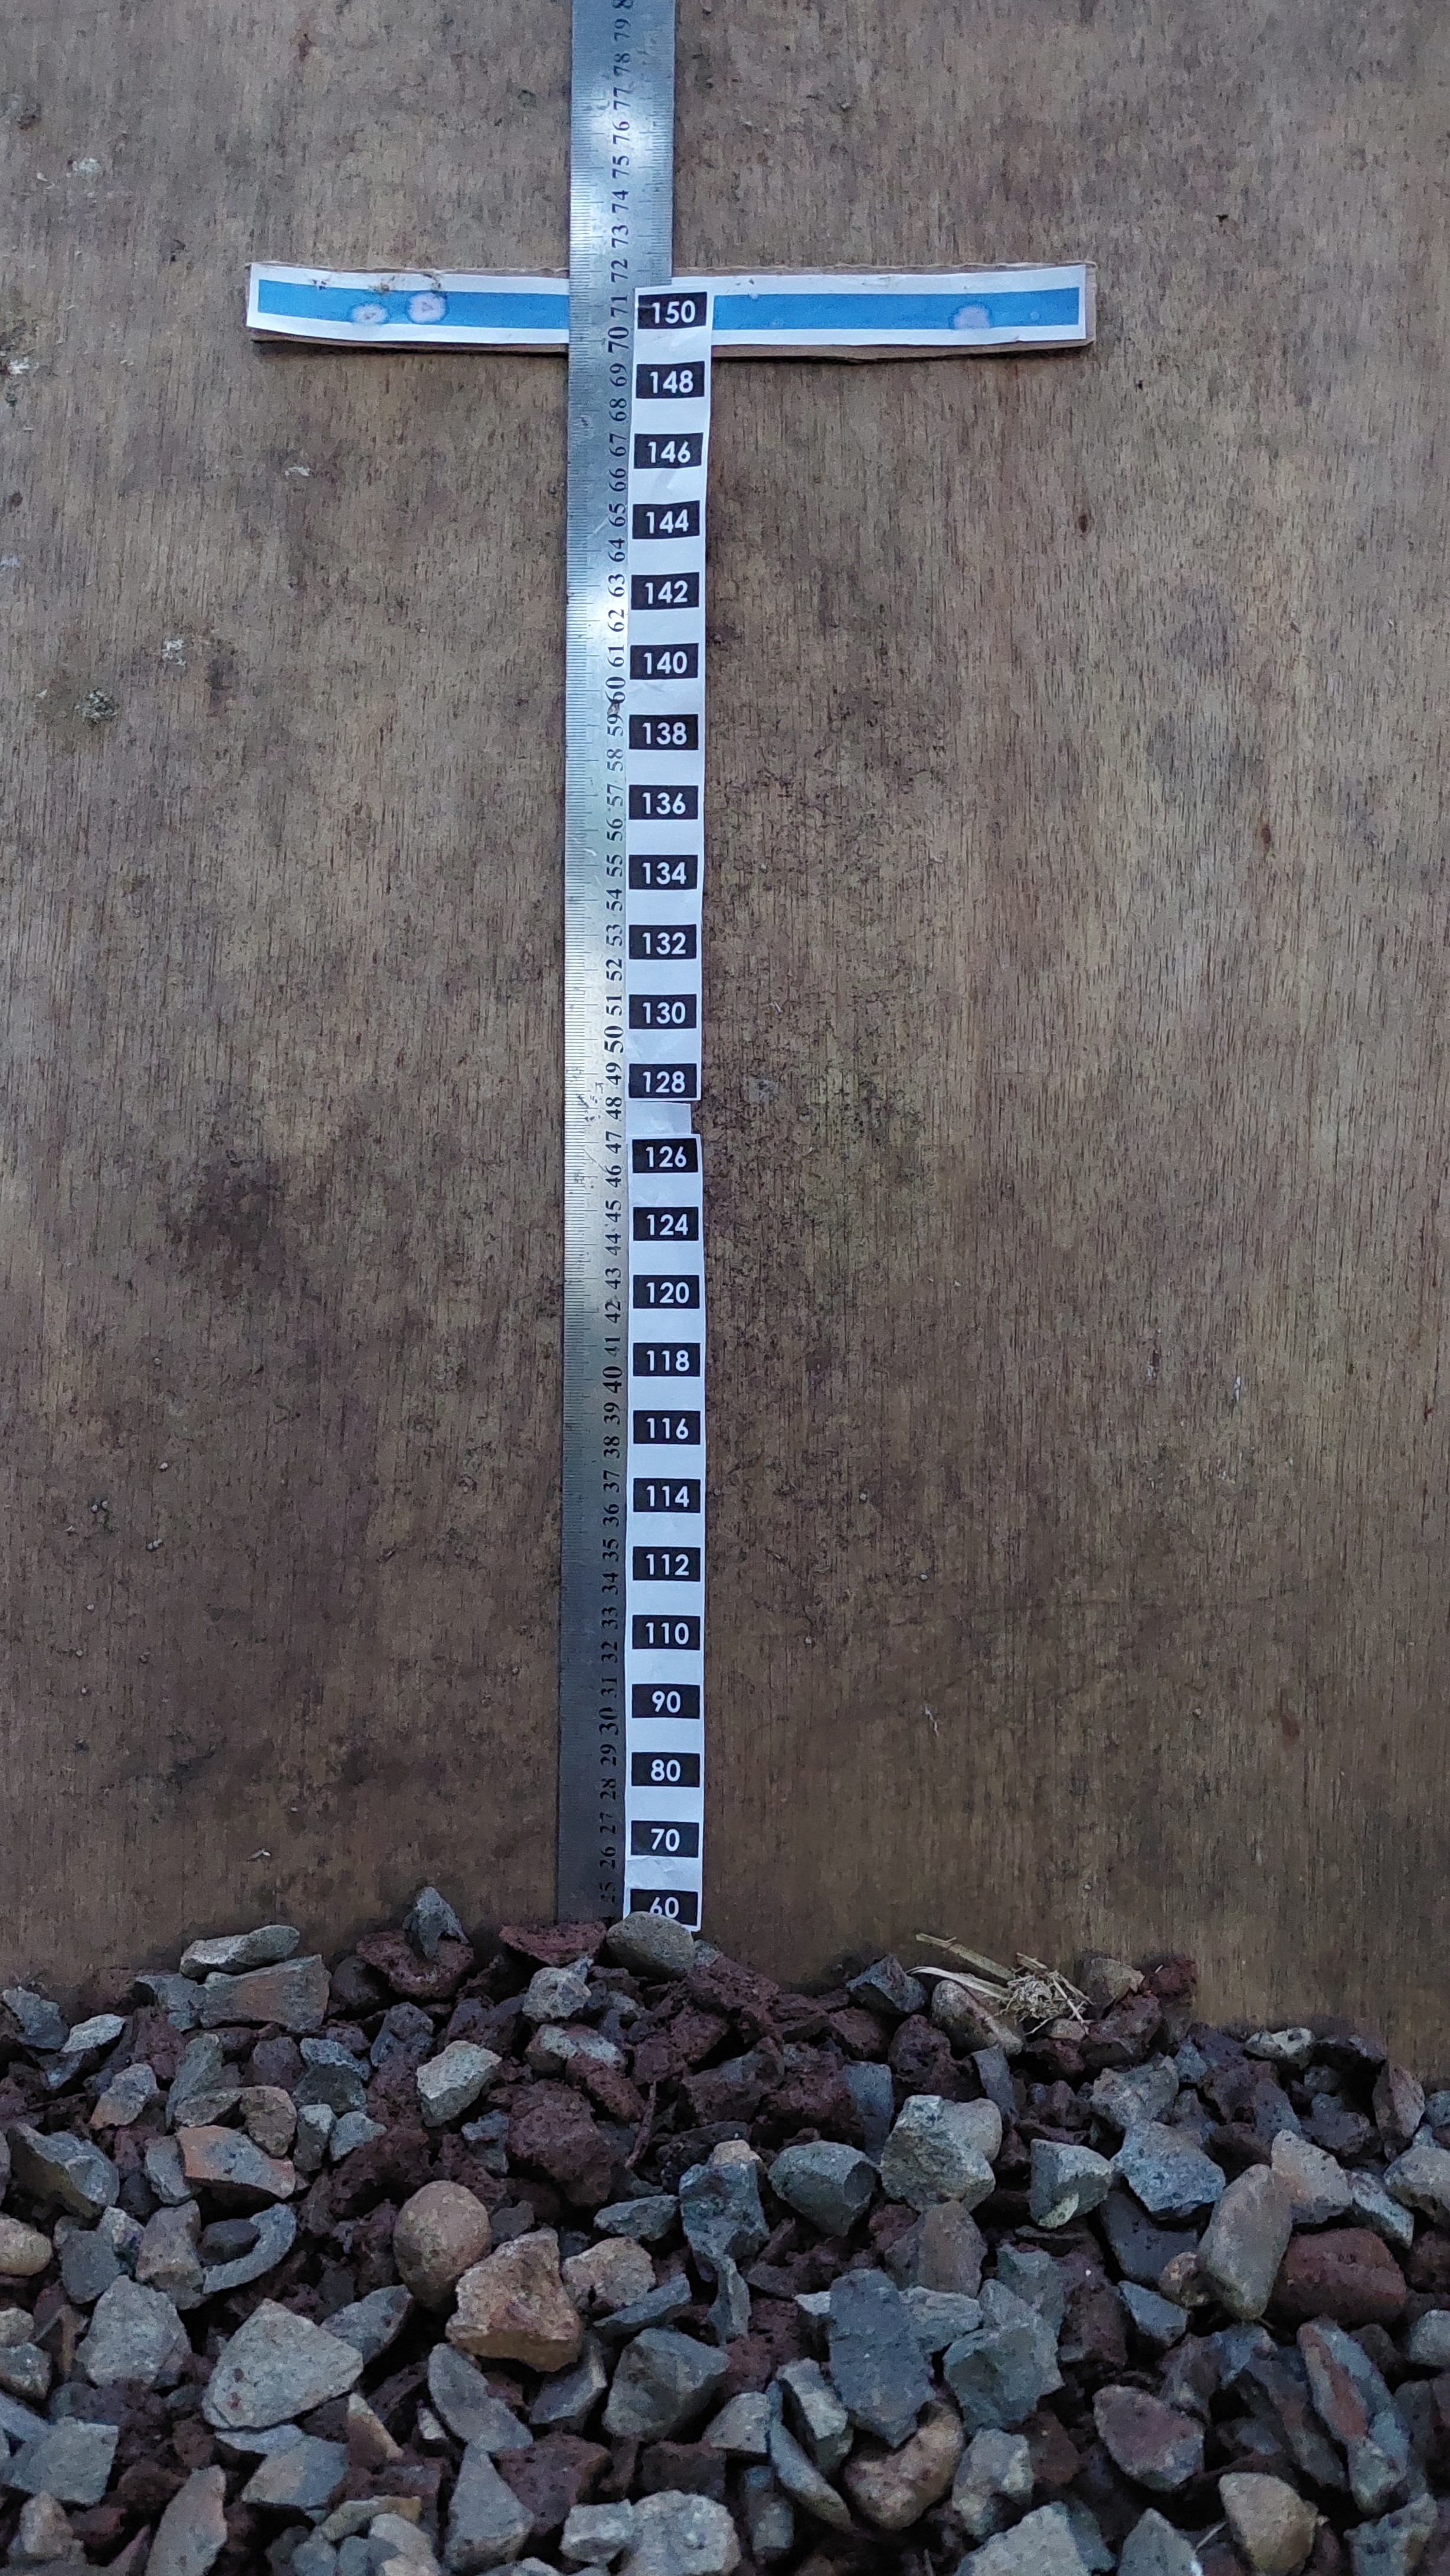kotak_2x1: (626, 568, 704, 616), (626, 708, 702, 754), (628, 1610, 704, 1656), (628, 1746, 704, 1792), (624, 849, 702, 893), (628, 1815, 702, 1861), (628, 497, 704, 541), (628, 1269, 704, 1313), (628, 1338, 704, 1382), (628, 1474, 706, 1516), (635, 288, 709, 333), (626, 989, 700, 1033), (630, 1677, 704, 1721), (628, 1407, 704, 1449), (635, 357, 707, 402), (628, 1543, 706, 1583), (630, 428, 704, 471), (628, 640, 702, 683), (626, 782, 700, 824), (626, 920, 700, 962), (624, 1058, 698, 1100), (630, 1203, 702, 1246), (628, 1136, 702, 1175)
mal_biru_150: (253, 274, 1086, 336)
